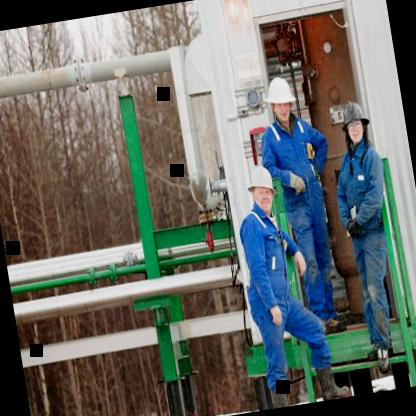helmet: (260, 70, 302, 130), (242, 156, 280, 216), (328, 98, 370, 147)
